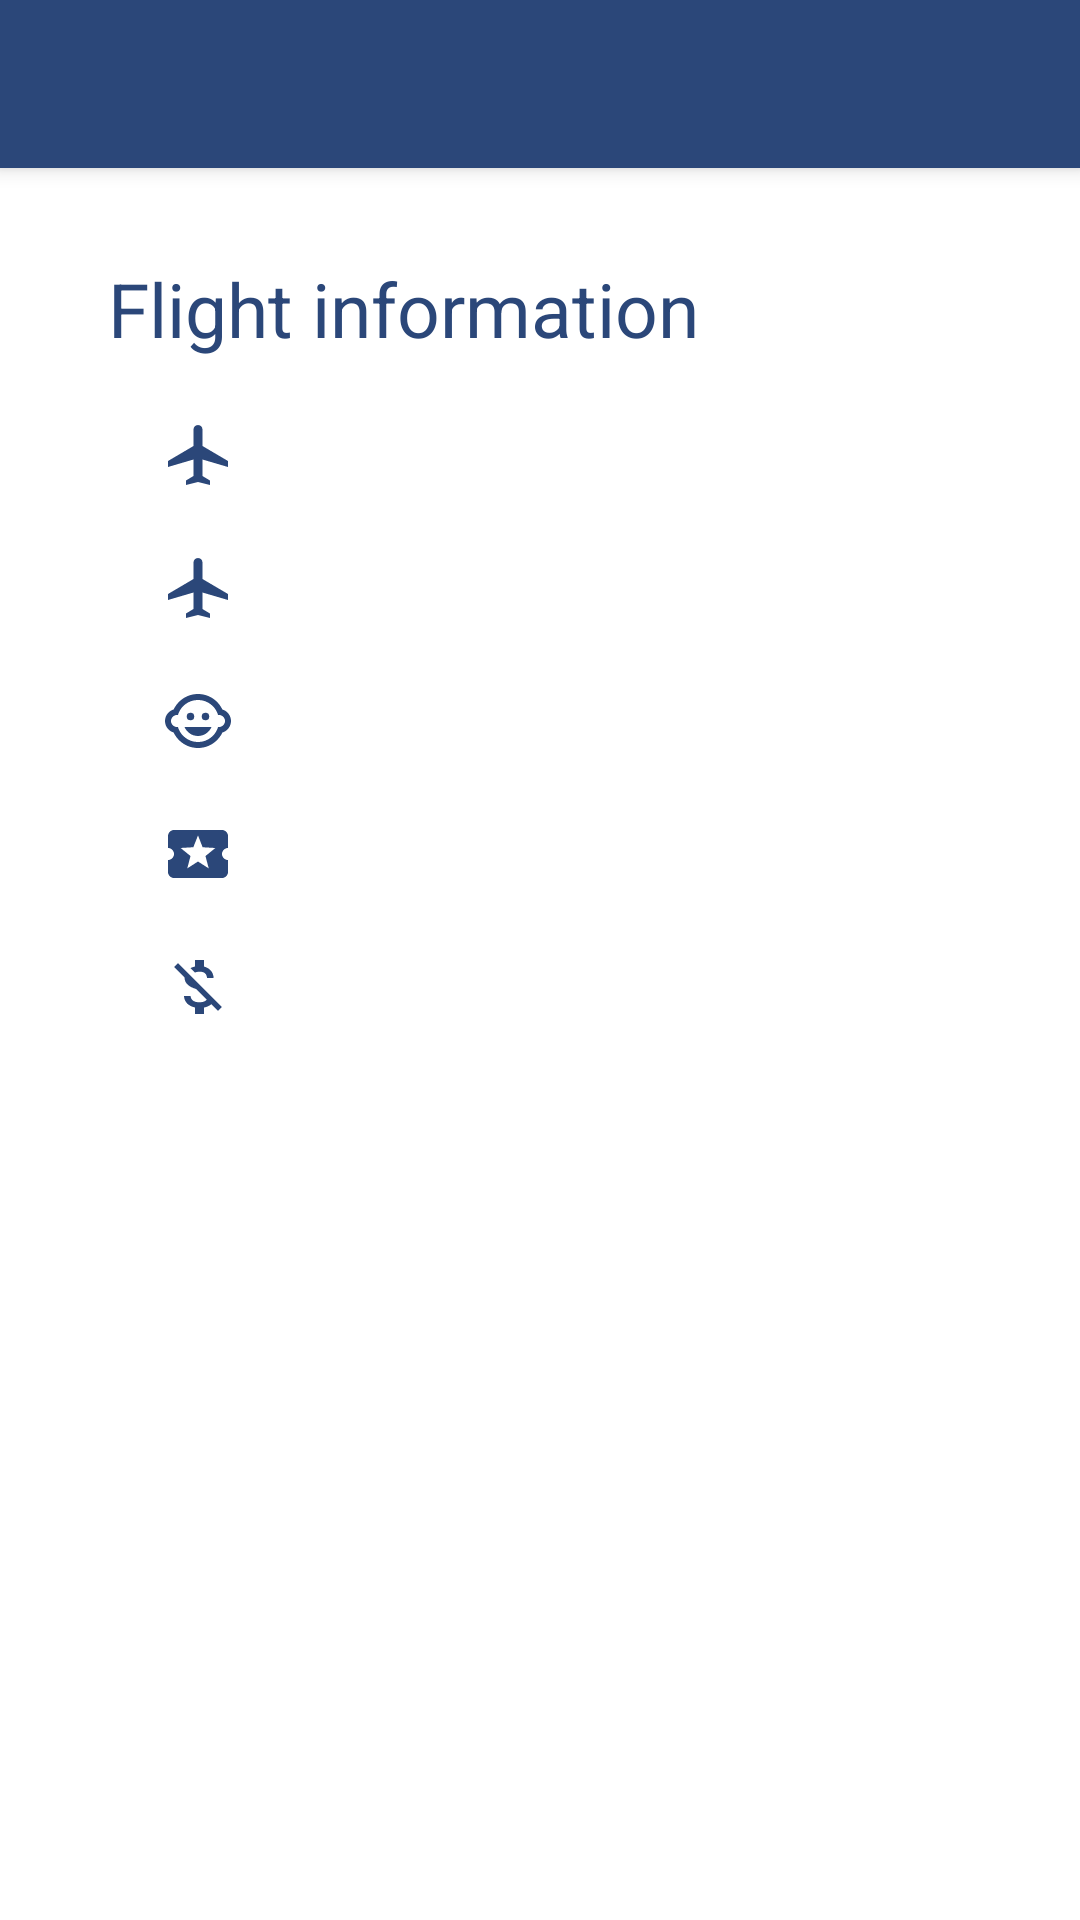

Named icons in this screenshot (1080px×1920px) and their bounding boxes, box(x1, y1, x2, y2):
child: box(165, 694, 231, 748)
plane: box(168, 425, 228, 485), box(168, 558, 228, 618)
